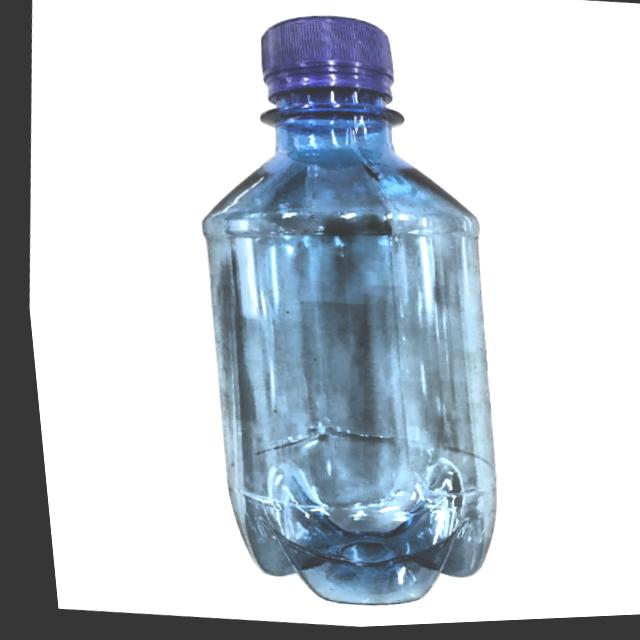Bottles: (131, 0, 575, 635)
